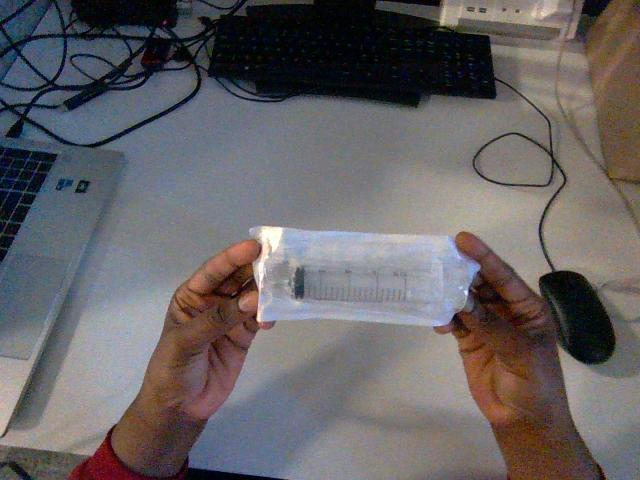syringe: (250, 226, 478, 325)
